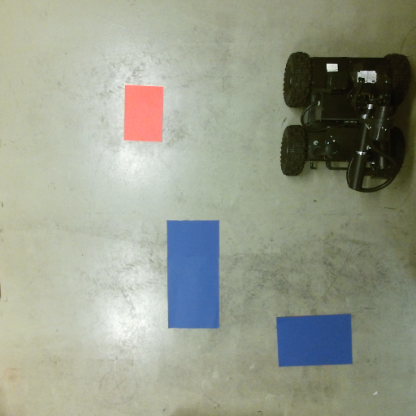Blue: (165, 220, 221, 331), (274, 314, 355, 366)
Jaguar: (279, 51, 414, 197)
Red: (122, 85, 164, 142)
